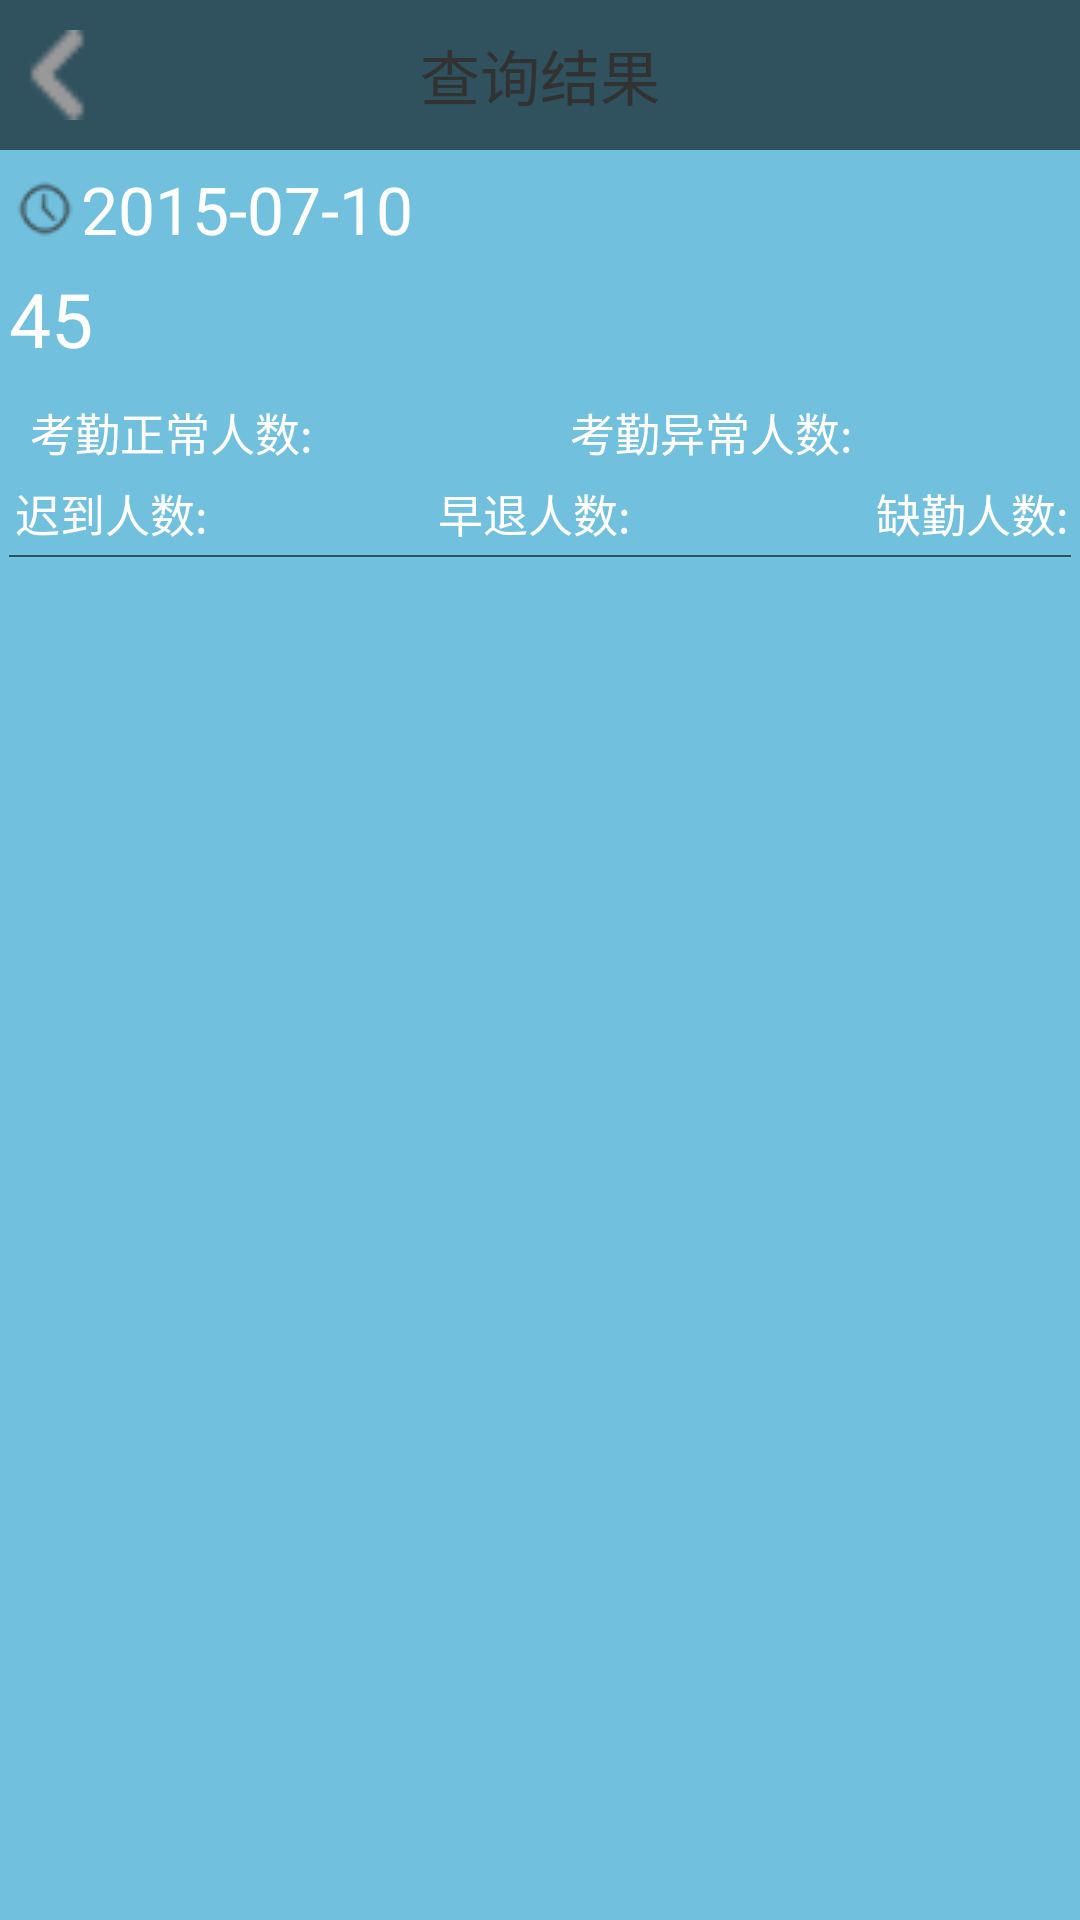

Icon bounding boxes for this 1080px×1920px phone screenshot, format [x1=x1, y1=y1, x2=x2, y2=y2]:
left: [x1=31, y1=30, x2=84, y2=120]
